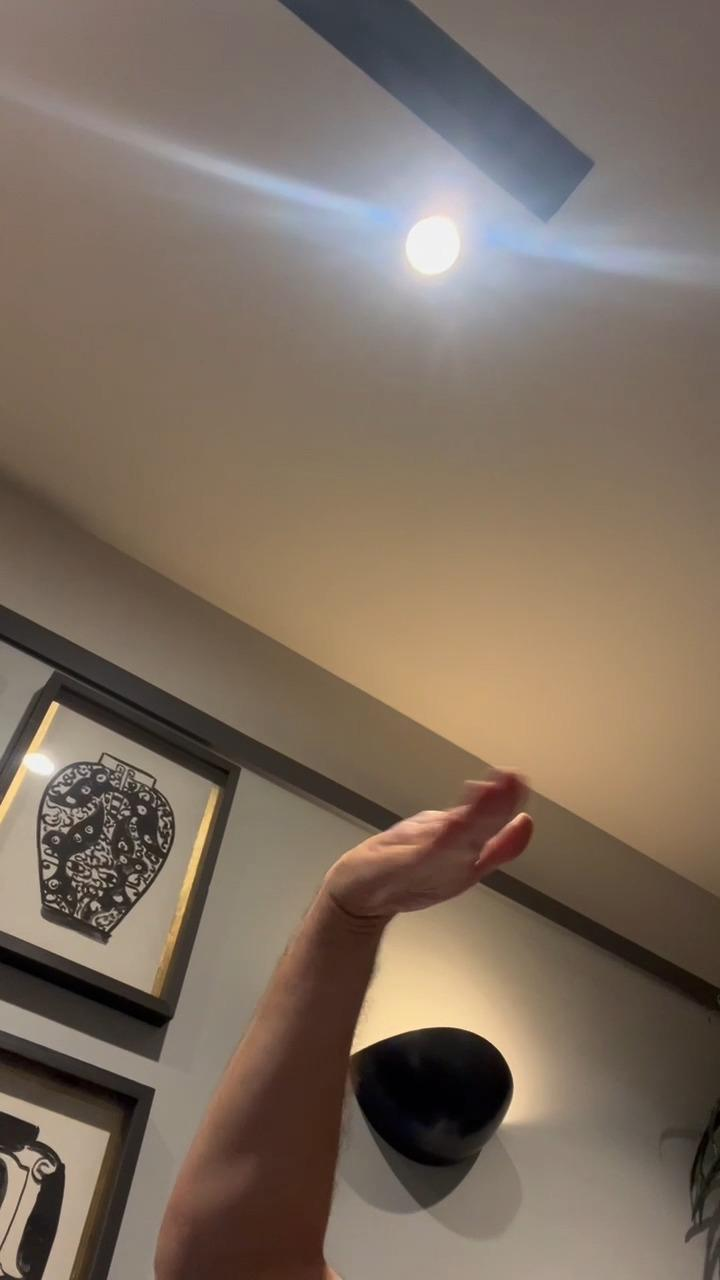Paper: (334, 766, 540, 921)
